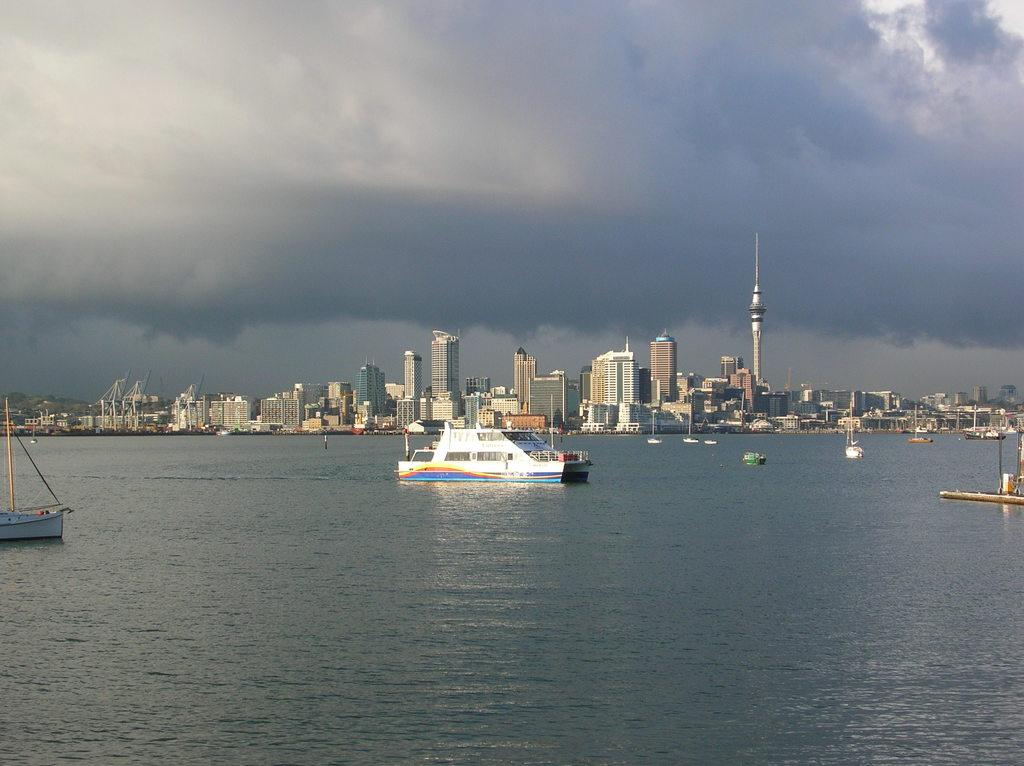PassengerShip: (396, 406, 596, 491)
